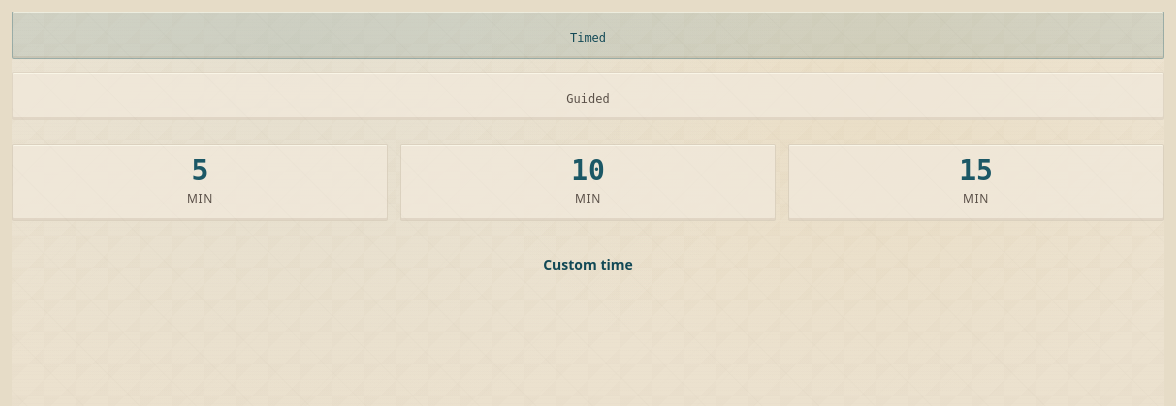
Scenario: TimerCore dashboard mode › custom duration input starts timer in-place
Click the button with test id "meditation-custom-trigger" at x=588, y=265, box [12,241,1164,289]
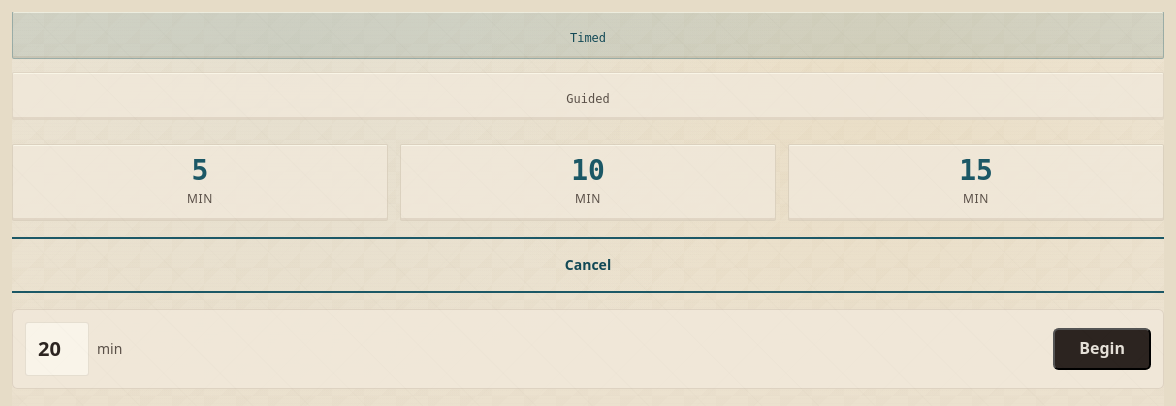
Expected: the element with test id "meditation-custom-input" is shown, [12,309,1164,389]
Expected: the number field named "Custom meditation minutes" is shown
Replace the text in the number field named "Custom meditation minutes" with "12" at x=57, y=349, box [25,322,89,376]
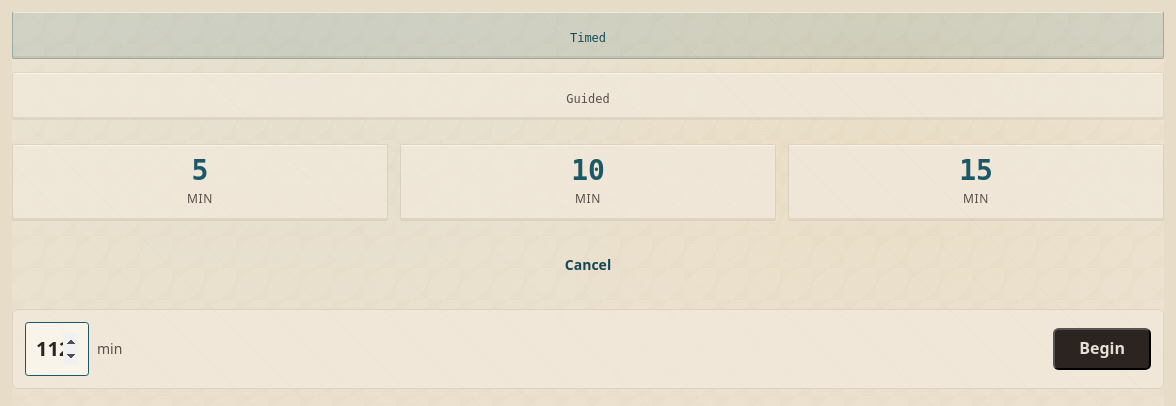
Click the button with test id "meditation-begin" at x=1102, y=349, box [1053,328,1151,370]
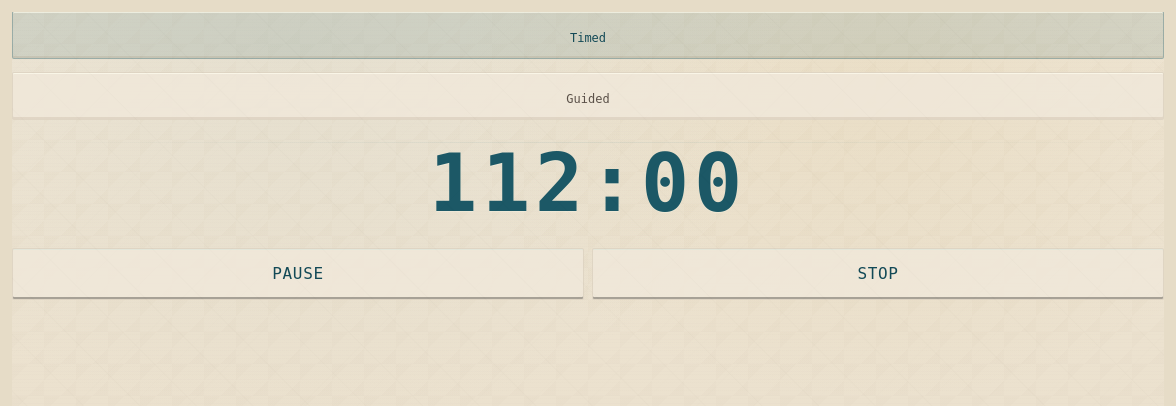
Expected: the text with test id "timer-readout" shows "12:00", [429,137,747,230]
